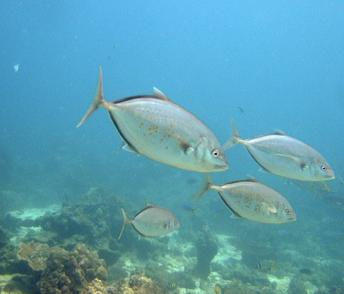Carangidae -Jacks-: (68, 52, 234, 177), (216, 114, 336, 182), (191, 168, 297, 229), (114, 199, 186, 242)
